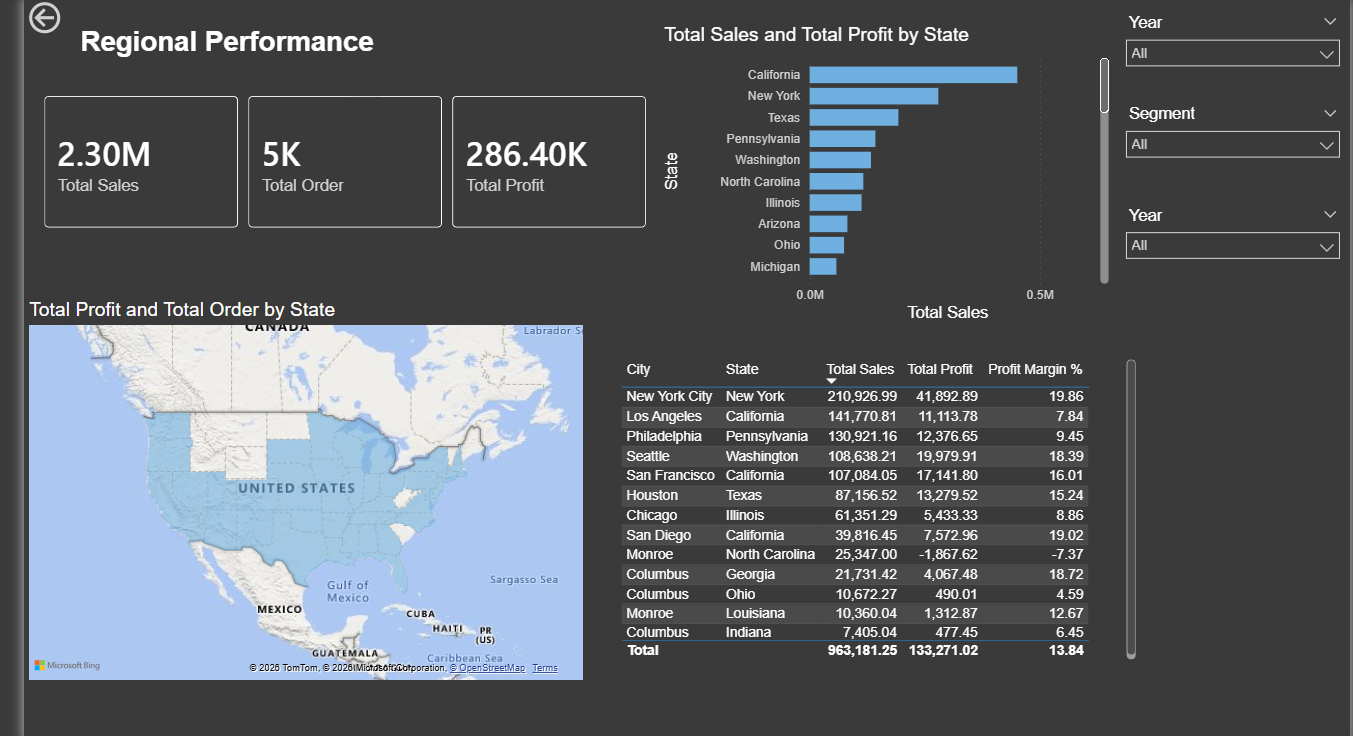

The page's visual inventory and layout, read from the dashboard file:
{"tool":"powerbi","page":{"name":"Regional performance","canvas":[1280,720],"ordinal":2},"visuals":[{"type":"clusteredBarChart","fields":{"Category":["Dim_Customer.State"],"Y":["Sample - Superstore.Total Sales"]},"box":[612.9,25.3,439.1,293.2],"z":0},{"type":"cardVisual","fields":{"Data":["Sample - Superstore.Total Sales","Sample - Superstore.Total Order","Sample - Superstore.Total Profit"]},"box":[8.4,84.5,604.4,149.6],"z":1000},{"type":"tableEx","fields":{"Values":["Dim_Customer.City","Dim_Customer.State","Sample - Superstore.Total Sales","Sample - Superstore.Total Profit","Sample - Superstore.Profit Margin %"]},"box":[570.2,344.9,507.4,299.3],"z":2000},{"type":"slicer","fields":{"Values":["Dim_Date.Year"]},"box":[1053.4,11.4,226.6,74.1],"z":3000},{"type":"slicer","fields":{"Values":["Dim_Date.Year"]},"box":[1053.4,196.7,226.6,74.1],"z":4000},{"type":"slicer","fields":{"Values":["Dim_Customer.Segment"]},"box":[1053.4,98.4,226.6,74.1],"z":5000},{"type":"filledMap","fields":{"Category":["Dim_Customer.State"]},"box":[0,290.8,545.3,374],"z":6000},{"type":"actionButton","box":[0,0,100,40],"z":7000},{"type":"textbox","box":[49.5,22.9,295.6,51.9],"z":8000}]}

Visuals, with their boxes on the page's 1280x720 design canvas (x1, y1, x2, y2). These are canvas units, not pixel positions in the 1353x736 screenshot, which may show the page scaled, cropped or inside an application window:
clusteredBarChart - Dim_Customer.State x Sample - Superstore.Total Sales: region(613, 25, 1052, 318)
cardVisual - Sample - Superstore.Total Sales x Sample - Superstore.Total Order: region(8, 84, 613, 234)
tableEx - Dim_Customer.City x Dim_Customer.State: region(570, 345, 1078, 644)
slicer - Dim_Date.Year: region(1053, 11, 1280, 86)
slicer - Dim_Date.Year: region(1053, 197, 1280, 271)
slicer - Dim_Customer.Segment: region(1053, 98, 1280, 172)
filledMap - Dim_Customer.State: region(0, 291, 545, 665)
actionButton: region(0, 0, 100, 40)
textbox: region(50, 23, 345, 75)
